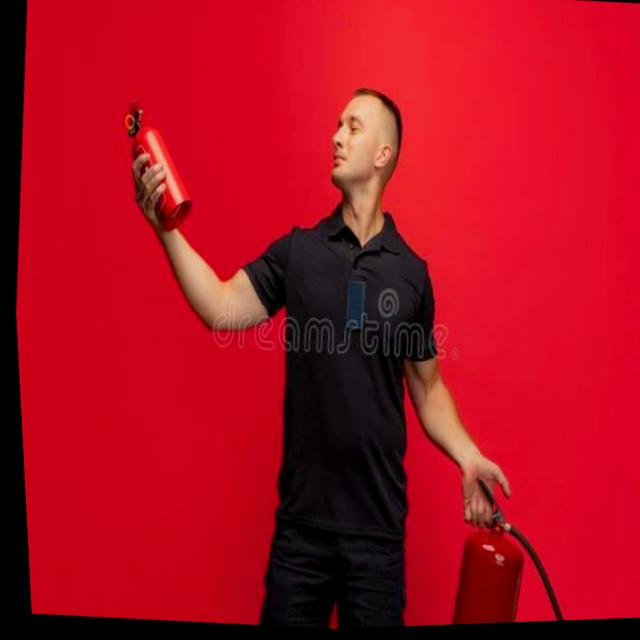FireExtinguisher: (427, 463, 589, 628), (107, 88, 209, 242)
